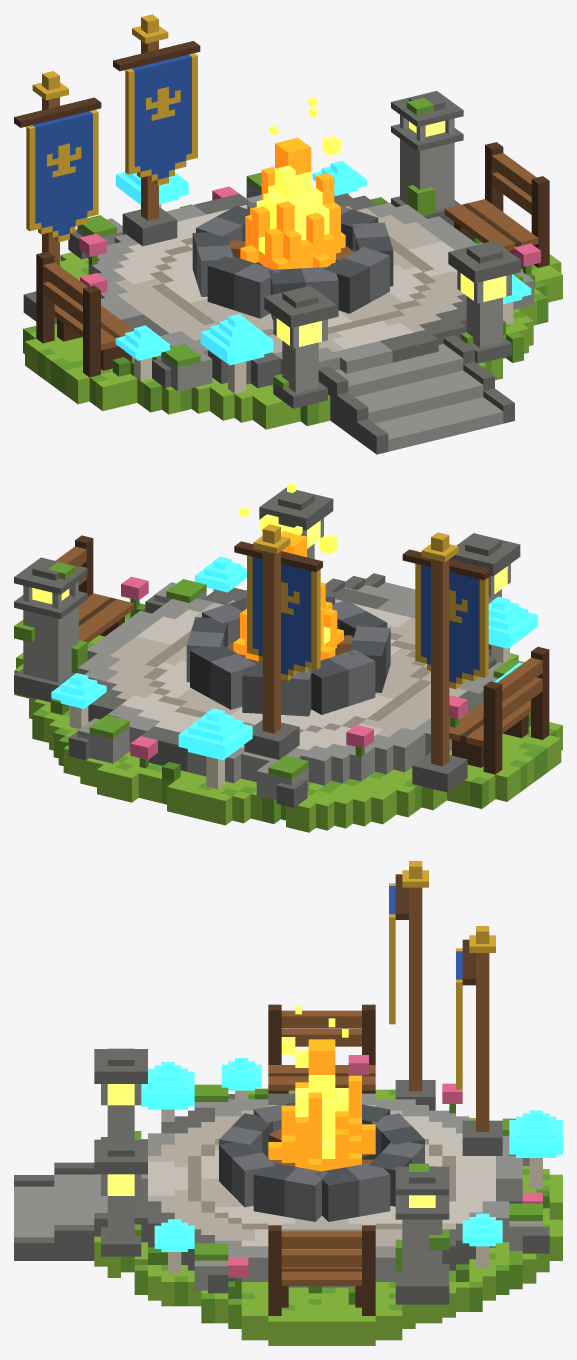
File: Lobby_SpawnCampfire.glb
3 renders of one model, top to bottom at view 1: azimuth 30°, elevation 25°; view 2: azimuth 150°, elevation 25°; view 3: azimuth 270°, elevation 25°, orthographic.
Visible parts, largest first — view 1: GrassRing_Grass, Steps_Stone, Paving_Paving, Flame_Flame_Emissive, Paving_PavingLight, Paving_Stone, FireRing_RockDark, Mushrooms_Mushroom_Emissive, FireRing_Rock, Banner_Left_BannerBlue, Banner_BackLeft_BannerBlue, Paving_StoneDark (+31 smaller); view 2: GrassRing_Grass, Paving_Stone, FireRing_Rock, Mushrooms_Mushroom_Emissive, Paving_Paving, Paving_PavingLight, FireRing_RockDark, GrassRing_Moss, Bench_Left_WoodDark, Banner_Left_Wood, Banner_BackLeft_BannerBlue, Banner_Left_BannerBlue (+27 smaller); view 3: GrassRing_Grass, Mushrooms_Mushroom_Emissive, Paving_PavingLight, FireRing_Rock, FireRing_RockDark, Flame_Flame_Emissive, Paving_Paving, Paving_Stone, Steps_Stone, Paving_StoneDark, Bench_Right_Wood, GrassRing_Moss (+28 smaller).
Part boxes in pixels (x1,y1,x2,y2): GrassRing_Grass: (25,242,562,429); Steps_Stone: (335,344,503,451); Paving_Paving: (115,206,463,353); Flame_Flame_Emissive: (240,137,345,269); Paving_PavingLight: (113,205,457,349); Paving_Stone: (88,194,477,374); FireRing_RockDark: (192,205,393,319); Mushrooms_Mushroom_Emissive: (115,160,531,365); FireRing_Rock: (196,202,389,318); Banner_Left_BannerBlue: (32,111,92,236); Banner_BackLeft_BannerBlue: (131,54,191,179); Paving_StoneDark: (121,193,466,388); GrassRing_Grass: (14,618,562,832); Paving_Stone: (77,598,498,785); FireRing_Rock: (186,600,390,716); Mushrooms_Mushroom_Emissive: (51,556,549,760); Paving_Paving: (106,599,466,737); Paving_PavingLight: (121,600,410,750); FireRing_RockDark: (190,596,387,714); GrassRing_Moss: (26,613,556,823); Bench_Left_WoodDark: (452,646,549,774); Banner_Left_Wood: (431,559,449,766); Banner_BackLeft_BannerBlue: (252,557,311,674); Banner_Left_BannerBlue: (421,565,479,682); GrassRing_Grass: (94,1089,562,1345); Mushrooms_Mushroom_Emissive: (141,1058,562,1251); Paving_PavingLight: (148,1116,495,1249); FireRing_Rock: (219,1104,424,1221); FireRing_RockDark: (219,1102,424,1221); Flame_Flame_Emissive: (268,1039,375,1171); Paving_Paving: (148,1105,455,1249); Paving_Stone: (134,1093,522,1287); Steps_Stone: (14,1174,107,1237); Paving_StoneDark: (134,1093,522,1270); Bench_Right_Wood: (281,1231,361,1285); GrassRing_Moss: (121,1089,549,1328).
Size of the model in its own units: 5.25 by 2.75 by 5.12.
